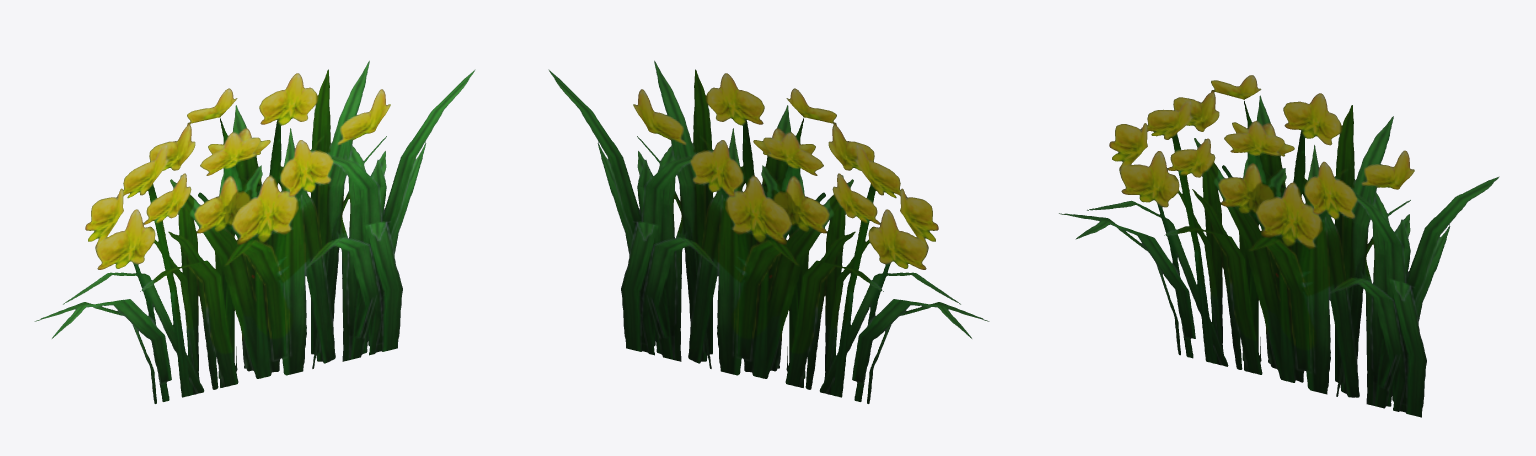
3 renders of one model, left to right at view 1: azimuth 30°, elevation 25°; view 2: azimuth 150°, elevation 25°; view 3: azimuth 330°, elevation 25°, orthographic.
Parts seen in each view (by area): view 1: 草丛000; view 2: 草丛000; view 3: 草丛000.
Boxes of the visible parts, x1,y1,x2,y2 form: 草丛000: (34,60,475,403); 草丛000: (548,60,989,403); 草丛000: (1059,75,1499,417).
Bounding box in the file's own units: 197 × 120 × 1.05e-05.
1 material, 1 textured.
